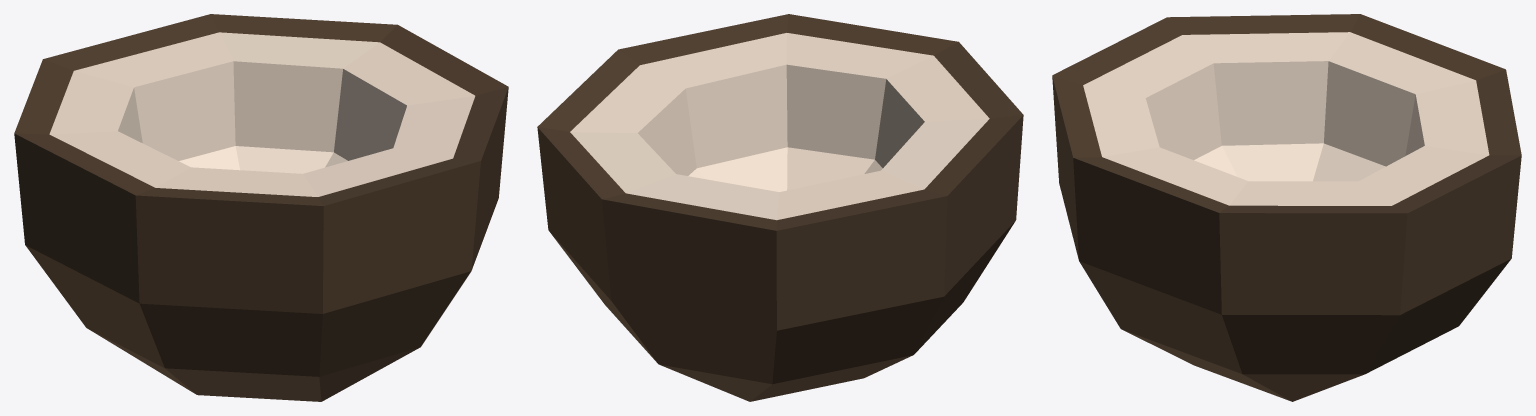
File: coconut-open.fbx
3 views of the same model, side by side, from view 1: azimuth 30°, elevation 25°; view 2: azimuth 150°, elevation 25°; view 3: azimuth 270°, elevation 25° (orthographic). The views are drawn at different scales.
Parts seen in each view (by area): view 1: coconut-open; view 2: coconut-open; view 3: coconut-open.
Part boxes in pixels (x1,y1,x2,y2): coconut-open: (14,14,508,401); coconut-open: (537,14,1023,401); coconut-open: (1052,14,1521,401).
Size of the model in its own units: 0.1573 by 0.0974 by 0.1584.
